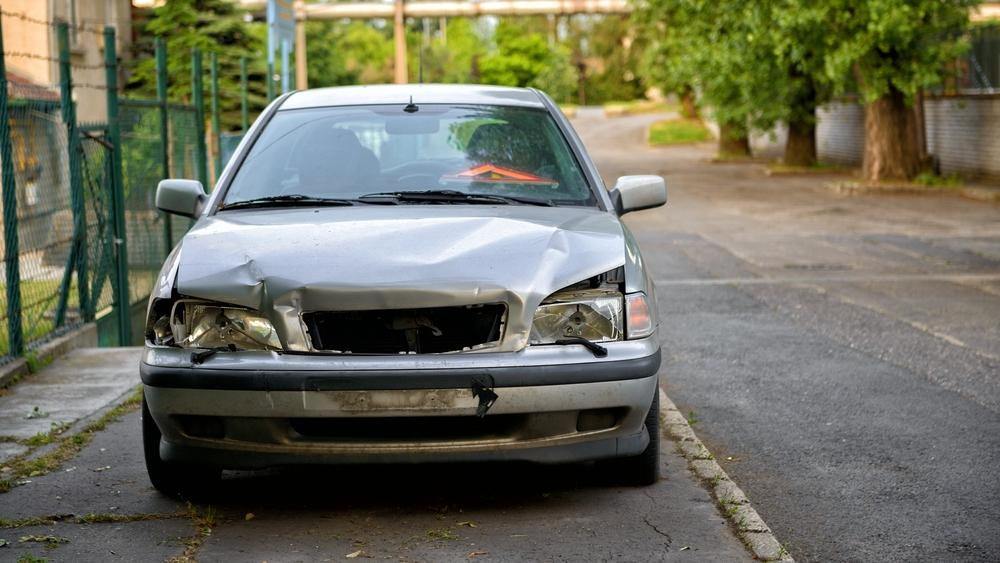dent: (385, 218, 566, 314), (214, 260, 314, 355)
lamp broken: (154, 298, 278, 349), (531, 283, 623, 343)
